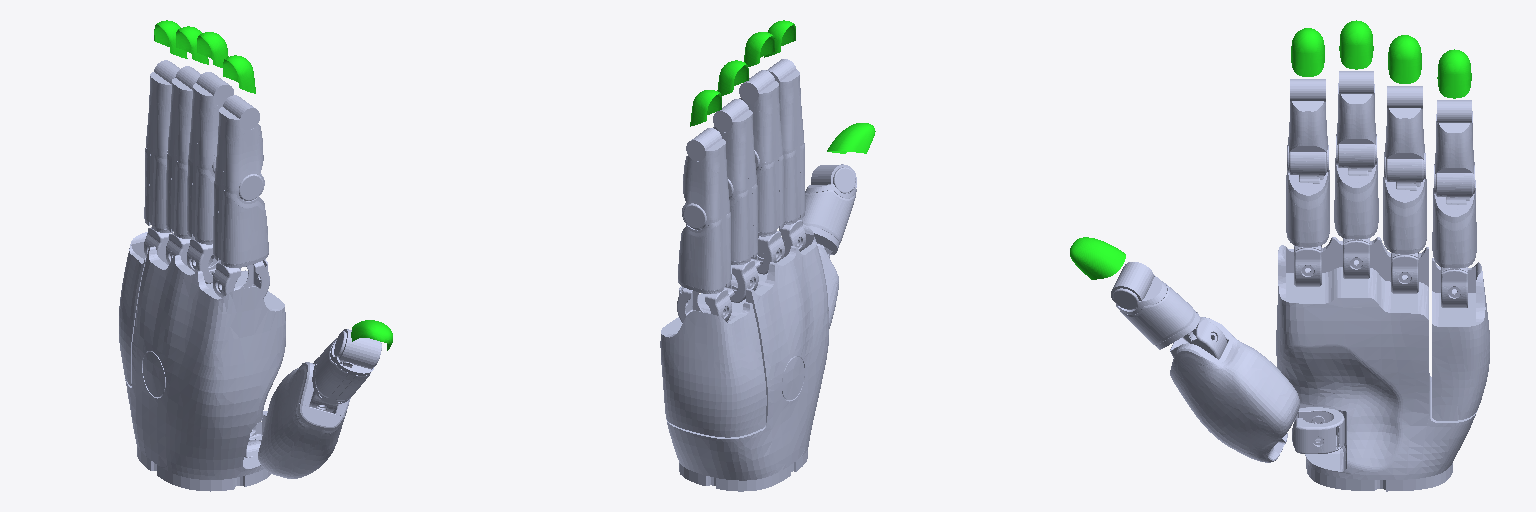
--- What the picture shows (computed from the rendered views, not written in the file) ---
3 views of the same robot in one strip: view 1: azimuth 30°, elevation 25°; view 2: azimuth 150°, elevation 25°; view 3: azimuth 270°, elevation 25° (orthographic).
Robot: Left_Sharpa_HA4 — 33 links, 32 joints (22 revolute, 10 fixed); root link left_hand_C_MC; default pose: every joint at zero.
Links seen in each view (by area): view 1: left_hand_C_MC, left_thumb_MC, left_index_PP, left_index_MP, left_thumb_PP, left_middle_MP, left_pinky_MC, left_middle_PP, left_pinky_MP, left_ring_MP, left_pinky_PP, left_ring_PP (+8 smaller); view 2: left_hand_C_MC, left_pinky_MC, left_pinky_PP, left_thumb_PP, left_pinky_MP, left_ring_MP, left_middle_MP, left_ring_PP, left_middle_PP, left_index_MP, left_index_PP, left_pinky_MCP_VL (+9 smaller); view 3: left_hand_C_MC, left_thumb_MC, left_pinky_MC, left_thumb_PP, left_ring_PP, left_index_PP, left_pinky_PP, left_middle_PP, left_pinky_MP, left_middle_MP, left_ring_MP, left_index_MP (+11 smaller).
Link boxes in pixels (x1,y1,x2,y2): left_hand_C_MC: (125, 246, 285, 491); left_thumb_MC: (258, 362, 350, 478); left_index_PP: (213, 173, 268, 267); left_index_MP: (215, 95, 263, 190); left_thumb_PP: (312, 329, 381, 403); left_middle_MP: (188, 72, 233, 167); left_pinky_MC: (119, 232, 147, 385); left_middle_PP: (187, 156, 215, 244); left_pinky_MP: (146, 60, 179, 155); left_ring_MP: (168, 66, 201, 161); left_pinky_PP: (144, 146, 173, 232); left_ring_PP: (166, 150, 194, 238); left_hand_C_MC: (666, 224, 828, 491); left_pinky_MC: (660, 302, 766, 437); left_pinky_PP: (678, 203, 731, 293); left_thumb_PP: (798, 164, 856, 254); left_pinky_MP: (683, 128, 729, 219); left_ring_MP: (713, 99, 756, 190); left_middle_MP: (739, 70, 782, 162); left_ring_PP: (728, 179, 757, 264); left_middle_PP: (754, 150, 783, 236); left_index_MP: (766, 59, 803, 150); left_index_PP: (783, 141, 805, 224); left_pinky_MCP_VL: (677, 286, 731, 322); left_hand_C_MC: (1276, 237, 1477, 491); left_thumb_MC: (1170, 317, 1299, 462); left_pinky_MC: (1432, 258, 1489, 420); left_thumb_PP: (1111, 262, 1199, 349); left_ring_PP: (1383, 152, 1426, 253); left_index_PP: (1286, 145, 1329, 246); left_pinky_PP: (1432, 173, 1476, 267); left_middle_PP: (1334, 144, 1378, 238); left_pinky_MP: (1434, 100, 1474, 173); left_middle_MP: (1336, 71, 1376, 144); left_ring_MP: (1385, 86, 1424, 159); left_index_MP: (1288, 79, 1327, 152).
Size in the robot's own frame: 0.0587 by 0.1764 by 0.2038 metres.
23 mesh visuals loaded from 13 distinct referenced files (11 binary STL); not drawn: 5 (reference not matched to a file when rendering).

robot.urdf — Left_Sharpa_HA4:
<?xml version="1.0" encoding="utf-8"?>
<robot name="Left_Sharpa_HA4">
  <mujoco>
    <compiler meshdir="meshes" balanceinertia="true" discardvisual="false" />
  </mujoco>
  <link name="left_hand_C_MC">
    <inertial>
      <origin
        xyz="-0.00162819 -0.00610534 0.0404193"
        rpy="0 0 0"
      />
      <mass value="0.72045" />
      <inertia
        ixx="0.000674245"
        ixy="-9.22298E-06"
        ixz="5.25317E-06"
        iyy="0.000526298"
        iyz="9.94281E-05"
        izz="0.000354144"
      />
    </inertial>
    <visual>
      <origin
        xyz="0 0 0"
        rpy="0 0 0"
      />
      <geometry>
        <mesh filename="package://left_sharpa_ha4/meshes/left_hand_C_MC_visual.STL" />
      </geometry>
      <material name="">
        <color rgba="0.79216 0.81961 0.93333 1" />
      </material>
    </visual>
    <collision>
      <origin
        xyz="0 0 0"
        rpy="0 0 0"
      />
      <geometry>
        <mesh filename="package://left_sharpa_ha4/meshes/left_hand_C_MC.STL" />
      </geometry>
    </collision>
  </link>
  <link name="left_thumb_CMC_VL">
    <inertial>
      <origin
        xyz="0 0 0"
        rpy="0 0 0"
      />
      <mass value="1.0E-06" />
      <inertia
        ixx="2.0E-12"
        ixy="0"
        ixz="0"
        iyy="2.0E-12"
        iyz="0"
        izz="2.0E-12"
      />
    </inertial>
    <visual>
      <origin
        xyz="0 0 0"
        rpy="0 0 0"
      />
      <geometry>
        <mesh filename="package://left_sharpa_ha4/meshes/left_thumb_CMC_VL.STL" />
      </geometry>
      <material name="">
        <color rgba="0.79216 0.81961 0.93333 1" />
      </material>
    </visual>

  </link>
  <joint name="left_thumb_CMC_FE" type="revolute">
    <origin
      xyz="0.01 -0.026 0.0212"
      rpy="0 0 -1.5708"
    />
    <parent link="left_hand_C_MC" />
    <child link="left_thumb_CMC_VL" />
    <axis xyz="0 0 1" />
    <limit lower="-0.1745" upper="1.9199" effort="3.3" velocity="11.84076833" />
  </joint>
  <link name="left_thumb_MC">
    <inertial>
      <origin
        xyz="0.0385056 -0.0105846 -0.00991873"
        rpy="0 0 0"
      />
      <mass value="0.116" />
      <inertia
        ixx="1.65891E-05"
        ixy="-1.79455E-06"
        ixz="-4.03315E-07"
        iyy="3.45657E-05"
        iyz="2.16989E-06"
        izz="3.70102E-05"
      />
    </inertial>
    <visual>
      <origin
        xyz="0 0 0"
        rpy="0 0 0"
      />
      <geometry>
        <mesh filename="package://left_sharpa_ha4/meshes/left_thumb_MC_visual.STL" />
      </geometry>
      <material name="">
        <color rgba="0.79216 0.81961 0.93333 1" />
      </material>
    </visual>
    <collision>
      <origin
        xyz="0 0 0"
        rpy="0 0 0"
      />
      <geometry>
        <mesh filename="package://left_sharpa_ha4/meshes/left_thumb_MC.STL" />
      </geometry>
    </collision>
  </link>
  <joint name="left_thumb_CMC_AA" type="revolute">
    <origin
      xyz="0 -0.005 0"
      rpy="1.5708 -0.7854 0"
    />
    <parent link="left_thumb_CMC_VL" />
    <child link="left_thumb_MC" />
    <axis xyz="0 0 1" />
    <limit lower="-0.3491" upper="0.3491" effort="3.3" velocity="11.84076833" />
  </joint>
  <link name="left_thumb_MCP_VL">
    <inertial>
      <origin
        xyz="4.8E-09 0.000869809 -3.6E-09"
        rpy="0 0 0"
      />
      <mass value="1.0E-06" />
      <inertia
        ixx="2.0E-12"
        ixy="0"
        ixz="0"
        iyy="2.0E-12"
        iyz="0"
        izz="2.0E-12"
      />
    </inertial>
    <visual>
      <origin
        xyz="0 0 0"
        rpy="0 0 0"
      />
      <geometry>
        <mesh filename="package://left_sharpa_ha4/meshes/left_thumb_MCP_VL_visual.STL" />
      </geometry>
      <material name="">
        <color rgba="0.79216 0.81961 0.93333 1" />
      </material>
    </visual>
  </link>
  <joint name="left_thumb_MCP_FE" type="revolute">
    <origin
      xyz="0.065 -0.006 -0.010392"
      rpy="-0.5236 0 0"
    />
    <parent link="left_thumb_MC" />
    <child link="left_thumb_MCP_VL" />
    <axis xyz="0 0 1" />
    <limit lower="-0.5236" upper="1.3963" effort="1.864" velocity="16.07692878" />
  </joint>
  <link name="left_thumb_PP">
    <inertial>
      <origin
        xyz="0.0219483 -0.00015581 0.00149446"
        rpy="0 0 0"
      />
      <mass value="0.04955" />
      <inertia
        ixx="2.59665E-06"
        ixy="3.6507E-09"
        ixz="-1.84385E-07"
        iyy="4.6E-06"
        iyz="-3.29002E-10"
        izz="4.33744E-06"
      />
    </inertial>
    <visual>
      <origin
        xyz="0 0 0"
        rpy="0 0 0"
      />
      <geometry>
        <mesh filename="package://left_sharpa_ha4/meshes/left_thumb_PP_visual.STL" />
      </geometry>
      <material name="">
        <color rgba="0.79216 0.81961 0.93333 1" />
      </material>
    </visual>
    <collision>
      <origin
        xyz="0 0 0"
        rpy="0 0 0"
      />
      <geometry>
        <mesh filename="package://left_sharpa_ha4/meshes/left_thumb_PP.STL" />
      </geometry>
    </collision>
  </link>
  <joint name="left_thumb_MCP_AA" type="revolute">
    <origin
      xyz="0 0 0"
      rpy="1.5708 0 0"
    />
    <parent link="left_thumb_MCP_VL" />
    <child link="left_thumb_PP" />
    <axis xyz="0 0 1" />
    <limit lower="-0.3491" upper="0.3491" effort="1.864" velocity="16.07692878" />
  </joint>
  <link name="left_thumb_DP">
    <inertial>
      <origin
        xyz="0.0151804 -0.00463639 8.34861E-07"
        rpy="0 0 0"
      />
      <mass value="0.003886" />
      <inertia
        ixx="1.32801E-07"
        ixy="4.59297E-08"
        ixz="-3.77372E-13"
        iyy="1.5797E-07"
        iyz="3.48732E-13"
        izz="1.50341E-07"
      />
    </inertial>
    <visual>
      <origin
        xyz="0 0 0"
        rpy="0 0 0"
      />
      <geometry>
        <mesh filename="package://left_sharpa_ha4/meshes/left_thumb_DP_visual.STL" />
      </geometry>
      <material name="">
        <color rgba="0.79216 0.81961 0.93333 1" />
      </material>
    </visual>
    <collision>
      <origin
        xyz="0 0 0"
        rpy="0 0 0"
      />
      <geometry>
        <mesh filename="package://left_sharpa_ha4/meshes/left_thumb_DP.STL" />
      </geometry>
    </collision>
  </link>
  <joint name="left_thumb_IP" type="revolute">
    <origin
      xyz="0.039 0 0"
      rpy="-1.5708 0 0"
    />
    <parent link="left_thumb_PP" />
    <child link="left_thumb_DP" />
    <axis xyz="0 0 1" />
    <limit lower="0" upper="1.7453" effort="0.638" velocity="11.61831603" />
  </joint>
  <link name="left_thumb_elastomer">
    <inertial>
      <origin
        xyz="1.37353E-07 -0.0202873 0.00127072"
        rpy="0 0 0"
      />
      <mass value="0.002100" />
      <inertia
        ixx="6.4357E-08"
        ixy="-6.5027E-12"
        ixz="5.04872E-12"
        iyy="5.72112E-08"
        iyz="1.72427E-08"
        izz="7.47205E-08"
      />
    </inertial>
    <visual>
      <origin
        xyz="0 0 0"
        rpy="0 0 0"
      />
      <geometry>
        <mesh filename="package://left_sharpa_ha4/meshes/thumb_elastomer_surface.STL" />
      </geometry>
      <material name="">
        <color rgba="0.2 1 0.2 1" />
      </material>
    </visual>
    <collision>
      <origin
        xyz="0 0 0"
        rpy="0 0 0"
      />
      <geometry>
        <mesh filename="package://left_sharpa_ha4/meshes/thumb_elastomer.STL" />
      </geometry>
    </collision>
  </link>
  <joint name="left_thumb_elastomer_fix_joint" type="fixed">
    <origin
      xyz="0 0 0"
      rpy="1.5707963267949 -1.5707963267949 0"
    />
    <parent link="left_thumb_DP" />
    <child link="left_thumb_elastomer" />
    <axis xyz="0 0 0" />
  </joint>
  <link name="left_thumb_fingertip">
    <inertial>
      <origin
        xyz="0.0 0.0 0.0"
        rpy="0 0 0"
      />
      <mass value="1.0E-06" />
      <inertia
        ixx="2.0E-12"
        ixy="0"
        ixz="0"
        iyy="2.0E-12"
        iyz="0"
        izz="2.0E-12"
      />
    </inertial>
  </link>
  <joint name="left_thumb_fingertip_fix_joint" type="fixed">
    <origin
      xyz="0 -0.0276109346321216 0"
      rpy="1.5707963267949 1.5707963267949 0"
    />
    <parent link="left_thumb_elastomer" />
    <child link="left_thumb_fingertip" />
    <axis xyz="0 0 0" />
  </joint>
  <link name="left_index_MCP_VL">
    <inertial>
      <origin
        xyz="4.8E-09 0.00086981 -3.6E-09"
        rpy="0 0 0"
      />
      <mass value="1.0E-06" />
      <inertia
        ixx="2.0E-12"
        ixy="0"
        ixz="0"
        iyy="2.0E-12"
        iyz="0"
        izz="2.0E-12"
      />
    </inertial>
    <visual>
      <origin
        xyz="0 0 0"
        rpy="0 0 0"
      />
      <geometry>
        <mesh filename="package://left_sharpa_ha4/meshes/left_MCP_VL_visual.STL" />
      </geometry>
      <material name="">
        <color rgba="0.79216 0.81961 0.93333 1" />
      </material>
    </visual>
    <collision>
      <origin
        xyz="0 0 0"
        rpy="0 0 0"
      />
      <geometry>
        <mesh filename="package://left_sharpa_ha4/meshes/MCP_VL.STL" />
      </geometry>
    </collision>

  </link>
  <joint name="left_index_MCP_FE" type="revolute">
    <origin
      xyz="0.001 -0.0303 0.0957"
      rpy="0 -1.5708 -1.5708"
    />
    <parent link="left_hand_C_MC" />
    <child link="left_index_MCP_VL" />
    <axis xyz="0 0 1" />
    <limit lower="-0.17453293" upper="1.5708" effort="1.864" velocity="16.07692878" />
  </joint>
  <link name="left_index_PP">
    <inertial>
      <origin
        xyz="0.0243772 -1.00263E-06 0.000755901"
        rpy="0 0 0"
      />
      <mass value="0.04138" />
      <inertia
        ixx="2.19643E-06"
        ixy="-5.66246E-11"
        ixz="-3.54371E-07"
        iyy="6.82371E-06"
        iyz="4.72597E-11"
        izz="6.51207E-06"
      />
    </inertial>
    <visual>
      <origin
        xyz="0 0 0"
        rpy="0 0 0"
      />
      <geometry>
        <mesh filename="package://left_sharpa_ha4/meshes/left_PP_visual.STL" />
      </geometry>
      <material name="">
        <color rgba="0.79216 0.81961 0.93333 1" />
      </material>
    </visual>
    <collision>
      <origin
        xyz="0 0 0"
        rpy="0 0 0"
      />
      <geometry>
        <mesh filename="package://left_sharpa_ha4/meshes/left_PP.STL" />
      </geometry>
    </collision>
  </link>
  <joint name="left_index_MCP_AA" type="revolute">
    <origin
      xyz="0 0 0"
      rpy="1.5708 0 0"
    />
    <parent link="left_index_MCP_VL" />
    <child link="left_index_PP" />
    <axis xyz="0 0 1" />
    <limit lower="-0.3491" upper="0.3491" effort="1.864" velocity="16.07692878" />
  </joint>
  <link name="left_index_MP">
    <inertial>
      <origin
        xyz="0.015316 -0.00138561 6.27987E-08"
        rpy="0 0 0"
      />
      <mass value="0.02509" />
      <inertia
        ixx="1.00375E-06"
        ixy="-7.00446E-08"
        ixz="7.42125E-12"
        iyy="2.2637E-06"
        iyz="-2.26606E-12"
        izz="2.28516E-06"
      />
    </inertial>
    <visual>
      <origin
        xyz="0 0 0"
        rpy="0 0 0"
      />
      <geometry>
        <mesh filename="package://left_sharpa_ha4/meshes/left_MP_visual.STL" />
      </geometry>
      <material name="">
        <color rgba="0.79216 0.81961 0.93333 1" />
      </material>
    </visual>
    <collision>
      <origin
        xyz="0 0 0"
        rpy="0 0 0"
      />
      <geometry>
        <mesh filename="package://left_sharpa_ha4/meshes/left_MP.STL" />
      </geometry>
    </collision>
  </link>
  <joint name="left_index_PIP" type="revolute">
    <origin
      xyz="0.047 0 0"
      rpy="-1.5708 0 0"
    />
    <parent link="left_index_PP" />
    <child link="left_index_MP" />
    <axis xyz="0 0 1" />
    <limit lower="0" upper="1.7453" effort="0.638" velocity="11.61831603" />
  </joint>
  <link name="left_index_DP">
    <inertial>
      <origin
        xyz="0.0127205 -0.00380991 -9.52663E-07"
        rpy="0 0 0"
      />
      <mass value="0.003002" />
      <inertia
        ixx="7.65598E-08"
        ixy="2.47622E-08"
        ixz="1.23922E-11"
        iyy="9.99792E-08"
        iyz="-4.16105E-12"
        izz="9.38245E-08"
      />
    </inertial>
    <visual>
      <origin
        xyz="0 0 0"
        rpy="0 0 0"
      />
      <geometry>
        <mesh filename="package://left_sharpa_ha4/meshes/left_DP_visual.STL" />
      </geometry>
      <material name="">
        <color rgba="0.79216 0.81961 0.93333 1" />
      </material>
    </visual>
    <collision>
      <origin
        xyz="0 0 0"
        rpy="0 0 0"
      />
      <geometry>
        <mesh filename="package://left_sharpa_ha4/meshes/left_DP.STL" />
      </geometry>
    </collision>
  </link>
  <joint name="left_index_DIP" type="revolute">
    <origin
      xyz="0.0315 0 0"
      rpy="0 0 0"
    />
    <parent link="left_index_MP" />
    <child link="left_index_DP" />
    <axis xyz="0 0 1" />
    <limit lower="0" upper="1.3963" effort="0.189369" velocity="14.66594768" />
  </joint>
  <link name="left_index_elastomer">
    <inertial>
      <origin
        xyz="-4.34641E-07 -0.0183002 0.000412898"
        rpy="0 0 0"
      />
      <mass value="0.00110" />
      <inertia
        ixx="2.54635E-08"
        ixy="1.30327E-12"
        ixz="-2.13894E-13"
        iyy="2.14666E-08"
        iyz="5.39858E-09"
        izz="2.96037E-08"
      />
    </inertial>
    <visual>
      <origin
        xyz="0 0 0"
        rpy="0 0 0"
      />
      <geometry>
        <mesh filename="package://left_sharpa_ha4/meshes/elastomer_surface.STL" />
      </geometry>
      <material name="">
        <color rgba="0.2 1 0.2 1" />
      </material>
    </visual>
    <collision>
      <origin
        xyz="0 0 0"
        rpy="0 0 0"
      />
      <geometry>
        <mesh filename="package://left_sharpa_ha4/meshes/elastomer.STL" />
      </geometry>
    </collision>
  </link>
  <joint name="left_index_elastomer_fix_joint" type="fixed">
    <origin
      xyz="0 0 0"
      rpy="1.5707963267949 -1.5707963267949 0"
    />
    <parent link="left_index_DP" />
    <child link="left_index_elastomer" />
    <axis xyz="0 0 0" />
  </joint>
  <link name="left_index_fingertip">
    <inertial>
      <origin
        xyz="0.0 0.0 0.0"
        rpy="0 0 0"
      />
      <mass value="1.0E-06" />
      <inertia
        ixx="2.0E-12"
        ixy="0"
        ixz="0"
        iyy="2.0E-12"
        iyz="0"
        izz="2.0E-12"
      />
    </inertial>
  </link>
  <joint name="left_index_fingertip_fix_joint" type="fixed">
    <origin
      xyz="0 -0.0260092574262508 0"
      rpy="1.5707963267949 1.5707963267949 0"
    />
    <parent link="left_index_elastomer" />
    <child link="left_index_fingertip" />
    <axis xyz="0 0 0" />
  </joint>
  <link name="left_middle_MCP_VL">
    <inertial>
      <origin
        xyz="4.8E-09 0.00086981 -3.6E-09"
        rpy="0 0 0"
      />
      <mass value="1.0E-06" />
      <inertia
        ixx="2.0E-12"
        ixy="0"
        ixz="0"
        iyy="2.0E-12"
        iyz="0"
        izz="2.0E-12"
      />
    </inertial>
    <visual>
      <origin
        xyz="0 0 0"
        rpy="0 0 0"
      />
      <geometry>
        <mesh filename="package://left_sharpa_ha4/meshes/left_MCP_VL_visual.STL" />
      </geometry>
      <material name="">
        <color rgba="0.79216 0.81961 0.93333 1" />
      </material>
    </visual>
    <collision>
      <origin
        xyz="0 0 0"
        rpy="0 0 0"
      />
      <geometry>
        <mesh filename="package://left_sharpa_ha4/meshes/MCP_VL.STL" />
      </geometry>
    </collision>
  </link>
  <joint name="left_middle_MCP_FE" type="revolute">
    <origin
      xyz="0 -0.01 0.0987"
      rpy="0 -1.5708 -1.5708"
    />
    <parent link="left_hand_C_MC" />
    <child link="left_middle_MCP_VL" />
    <axis xyz="0 0 1" />
    <limit lower="-0.17453293" upper="1.5708" effort="1.864" velocity="16.07692878" />
  </joint>
  <link name="left_middle_PP">
    <inertial>
      <origin
        xyz="0.0243772 -1.00263E-06 0.000755901"
        rpy="0 0 0"
      />
      <mass value="0.04138" />
      <inertia
        ixx="2.19643E-06"
        ixy="-5.66246E-11"
        ixz="-3.54371E-07"
        iyy="6.82371E-06"
        iyz="4.72597E-11"
        izz="6.51207E-06"
      />
    </inertial>
    <visual>
      <origin
        xyz="0 0 0"
        rpy="0 0 0"
      />
      <geometry>
        <mesh filename="package://left_sharpa_ha4/meshes/left_PP_visual.STL" />
      </geometry>
      <material name="">
        <color rgba="0.79216 0.81961 0.93333 1" />
      </material>
    </visual>
    <collision>
      <origin
        xyz="0 0 0"
        rpy="0 0 0"
      />
      <geometry>
        <mesh filename="package://left_sharpa_ha4/meshes/left_PP.STL" />
      </geometry>
    </collision>
  </link>
  <joint name="left_middle_MCP_AA" type="revolute">
    <origin
      xyz="0 0 0"
      rpy="1.5708 0 0"
    />
    <parent link="left_middle_MCP_VL" />
    <child link="left_middle_PP" />
    <axis xyz="0 0 1" />
    <limit lower="-0.3491" upper="0.3491" effort="1.864" velocity="16.07692878" />
  </joint>
  <link name="left_middle_MP">
    <inertial>
      <origin
        xyz="0.015316 -0.00138561 6.27987E-08"
        rpy="0 0 0"
      />
      <mass value="0.02509" />
      <inertia
        ixx="1.00375E-06"
        ixy="-7.00446E-08"
        ixz="7.42125E-12"
        iyy="2.2637E-06"
        iyz="-2.26606E-12"
        izz="2.28516E-06"
      />
    </inertial>
    <visual>
      <origin
        xyz="0 0 0"
        rpy="0 0 0"
      />
      <geometry>
        <mesh filename="package://left_sharpa_ha4/meshes/left_MP_visual.STL" />
      </geometry>
      <material name="">
        <color rgba="0.79216 0.81961 0.93333 1" />
      </material>
    </visual>
    <collision>
      <origin
        xyz="0 0 0"
        rpy="0 0 0"
      />
      <geometry>
        <mesh filename="package://left_sharpa_ha4/meshes/left_MP.STL" />
      </geometry>
    </collision>
  </link>
  <joint name="left_middle_PIP" type="revolute">
    <origin
      xyz="0.047 0 0"
      rpy="-1.5708 0 0"
    />
    <parent link="left_middle_PP" />
    <child link="left_middle_MP" />
    <axis xyz="0 0 1" />
    <limit lower="0" upper="1.7453" effort="0.638" velocity="11.61831603" />
  </joint>
  <link name="left_middle_DP">
    <inertial>
      <origin
        xyz="0.0127205 -0.00380991 -9.52663E-07"
        rpy="0 0 0"
      />
      <mass value="0.003002" />
      <inertia
        ixx="7.65598E-08"
        ixy="2.47622E-08"
        ixz="1.23922E-11"
        iyy="9.99792E-08"
        iyz="-4.16105E-12"
        izz="9.38245E-08"
      />
    </inertial>
    <visual>
      <origin
        xyz="0 0 0"
        rpy="0 0 0"
      />
      <geometry>
        <mesh filename="package://left_sharpa_ha4/meshes/left_DP_visual.STL" />
      </geometry>
      <material name="">
        <color rgba="0.79216 0.81961 0.93333 1" />
      </material>
    </visual>
    <collision>
      <origin
        xyz="0 0 0"
        rpy="0 0 0"
      />
      <geometry>
        <mesh filename="package://left_sharpa_ha4/meshes/left_DP.STL" />
      </geometry>
    </collision>
  </link>
  <joint name="left_middle_DIP" type="revolute">
    <origin
      xyz="0.0315 0 0"
      rpy="0 0 0"
    />
    <parent link="left_middle_MP" />
    <child link="left_middle_DP" />
    <axis xyz="0 0 1" />
    <limit lower="0" upper="1.3963" effort="0.189369" velocity="14.66594768" />
  </joint>
  <link name="left_middle_elastomer">
    <inertial>
      <origin
        xyz="-4.34641E-07 -0.0183002 0.000412898"
        rpy="0 0 0"
      />
      <mass value="0.00110" />
      <inertia
        ixx="2.54635E-08"
        ixy="1.30327E-12"
        ixz="-2.13894E-13"
        iyy="2.14666E-08"
        iyz="5.39858E-09"
        izz="2.96037E-08"
      />
    </inertial>
    <visual>
      <origin
        xyz="0 0 0"
        rpy="0 0 0"
      />
      <geometry>
        <mesh filename="package://left_sharpa_ha4/meshes/elastomer_surface.STL" />
      </geometry>
      <material name="">
        <color rgba="0.2 1 0.2 1" />
      </material>
    </visual>
    <collision>
      <origin
        xyz="0 0 0"
        rpy="0 0 0"
      />
      <geometry>
        <mesh filename="package://left_sharpa_ha4/meshes/elastomer.STL" />
      </geometry>
    </collision>
  </link>
  <joint name="left_middle_elastomer_fix_joint" type="fixed">
    <origin
      xyz="0 0 0"
      rpy="1.5707963267949 -1.5707963267949 0"
    />
    <parent link="left_middle_DP" />
    <child link="left_middle_elastomer" />
    <axis xyz="0 0 0" />
  </joint>
  <link name="left_middle_fingertip">
    <inertial>
      <origin
        xyz="0.0 0.0 0.0"
        rpy="0 0 0"
      />
      <mass value="1.0E-06" />
      <inertia
        ixx="2.0E-12"
        ixy="0"
        ixz="0"
        iyy="2.0E-12"
        iyz="0"
        izz="2.0E-12"
      />
    </inertial>
  </link>
  <joint name="left_middle_fingertip_fix_joint" type="fixed">
    <origin
      xyz="0 -0.0260092574262507 0"
      rpy="1.5707963267949 1.5707963267949 0"
    />
    <parent link="left_middle_elastomer" />
    <child link="left_middle_fingertip" />
    <axis xyz="0 0 0" />
  </joint>
  <link name="left_ring_MCP_VL">
    <inertial>
      <origin
        xyz="4.8E-09 0.00086981 3.6E-09"
        rpy="0 0 0"
      />
      <mass value="1.0E-06" />
      <inertia
        ixx="2.0E-12"
        ixy="0"
        ixz="0"
        iyy="2.0E-12"
        iyz="0"
        izz="2.0E-12"
      />
    </inertial>
    <visual>
      <origin
        xyz="0 0 0"
        rpy="0 0 0"
      />
      <geometry>
        <mesh filename="package://left_sharpa_ha4/meshes/left_MCP_VL_visual.STL" />
      </geometry>
      <material name="">
        <color rgba="0.79216 0.81961 0.93333 1" />
      </material>
    </visual>
    <collision>
      <origin
        xyz="0 0 0"
        rpy="0 0 0"
      />
      <geometry>
        <mesh filename="package://left_sharpa_ha4/meshes/MCP_VL.STL" />
      </geometry>
    </collision>
  </link>
  <joint name="left_ring_MCP_FE" type="revolute">
    <origin
      xyz="0.0015 0.0103 0.0927"
      rpy="0 -1.5708 -1.5708"
    />
    <parent link="left_hand_C_MC" />
    <child link="left_ring_MCP_VL" />
    <axis xyz="0 0 1" />
    <limit lower="-0.17453293" upper="1.5708" effort="1.864" velocity="16.07692878" />
  </joint>
  <link name="left_ring_PP">
    <inertial>
      <origin
        xyz="0.0243772 -1.00263E-06 0.000755901"
        rpy="0 0 0"
      />
      <mass value="0.04138" />
      <inertia
        ixx="2.19643E-06"
        ixy="-5.66246E-11"
        ixz="-3.54371E-07"
        iyy="6.82371E-06"
        iyz="4.72597E-11"
        izz="6.51207E-06"
      />
    </inertial>
    <visual>
      <origin
        xyz="0 0 0"
        rpy="0 0 0"
      />
      <geometry>
        <mesh filename="package://left_sharpa_ha4/meshes/left_PP_visual.STL" />
      </geometry>
      <material name="">
        <color rgba="0.79216 0.81961 0.93333 1" />
      </material>
    </visual>
    <collision>
      <origin
        xyz="0 0 0"
        rpy="0 0 0"
      />
      <geometry>
        <mesh filename="package://left_sharpa_ha4/meshes/left_PP.STL" />
      </geometry>
    </collision>
  </link>
  <joint name="left_ring_MCP_AA" type="revolute">
    <origin
      xyz="0 0 0"
      rpy="1.5708 0 0"
    />
    <parent link="left_ring_MCP_VL" />
    <child link="left_ring_PP" />
    <axis xyz="0 0 1" />
    <limit lower="-0.3491" upper="0.3491" effort="1.864" velocity="16.07692878" />
  </joint>
  <link name="left_ring_MP">
    <inertial>
      <origin
        xyz="0.015316 -0.00138561 6.27987E-08"
        rpy="0 0 0"
      />
      <mass value="0.02509" />
      <inertia
        ixx="1.00375E-06"
        ixy="-7.00446E-08"
        ixz="7.42125E-12"
        iyy="2.2637E-06"
        iyz="-2.26606E-12"
        izz="2.28516E-06"
      />
    </inertial>
    <visual>
      <origin
        xyz="0 0 0"
        rpy="0 0 0"
      />
      <geometry>
        <mesh filename="package://left_sharpa_ha4/meshes/left_MP_visual.STL" />
      </geometry>
      <material name="">
        <color rgba="0.79216 0.81961 0.93333 1" />
      </material>
    </visual>
    <collision>
      <origin
        xyz="0 0 0"
        rpy="0 0 0"
      />
      <geometry>
        <mesh filename="package://left_sharpa_ha4/meshes/left_MP.STL" />
      </geometry>
    </collision>
  </link>
  <joint name="left_ring_PIP" type="revolute">
    <origin
      xyz="0.047 0 0"
      rpy="-1.5708 0 0"
    />
    <parent link="left_ring_PP" />
    <child link="left_ring_MP" />
    <axis xyz="0 0 1" />
    <limit lower="0" upper="1.7453" effort="0.638" velocity="11.61831603" />
  </joint>
  <link name="left_ring_DP">
    <inertial>
      <origin
        xyz="0.0127205 -0.00380991 -9.52663E-07"
        rpy="0 0 0"
      />
      <mass value="0.003002" />
      <inertia
        ixx="7.65598E-08"
        ixy="2.47622E-08"
        ixz="1.23922E-11"
        iyy="9.99792E-08"
        iyz="-4.16105E-12"
        izz="9.38245E-08"
      />
    </inertial>
    <visual>
      <origin
        xyz="0 0 0"
        rpy="0 0 0"
      />
      <geometry>
        <mesh filename="package://left_sharpa_ha4/meshes/left_DP_visual.STL" />
      </geometry>
      <material name="">
        <color rgba="0.79216 0.81961 0.93333 1" />
      </material>
    </visual>
    <collision>
      <origin
        xyz="0 0 0"
        rpy="0 0 0"
      />
      <geometry>
        <mesh filename="package://left_sharpa_ha4/meshes/left_DP.STL" />
      </geometry>
    </collision>
  </link>
  <joint name="left_ring_DIP" type="revolute">
    <origin
      xyz="0.0315 0 0"
      rpy="0 0 0"
    />
    <parent link="left_ring_MP" />
    <child link="left_ring_DP" />
    <axis xyz="0 0 1" />
    <limit lower="0" upper="1.3963" effort="0.189369" velocity="14.66594768" />
  </joint>
  <link name="left_ring_elastomer">
    <inertial>
      <origin
        xyz="-4.34641E-07 -0.0183002 0.000412898"
        rpy="0 0 0"
      />
      <mass value="0.00110" />
      <inertia
        ixx="2.54635E-08"
        ixy="1.30327E-12"
        ixz="-2.13894E-13"
        iyy="2.14666E-08"
        iyz="5.39858E-09"
        izz="2.96037E-08"
      />
    </inertial>
    <visual>
      <origin
        xyz="0 0 0"
        rpy="0 0 0"
      />
      <geometry>
        <mesh filename="package://left_sharpa_ha4/meshes/elastomer_surface.STL" />
      </geometry>
      <material name="">
        <color rgba="0.2 1 0.2 1" />
      </material>
    </visual>
    <collision>
      <origin
        xyz="0 0 0"
        rpy="0 0 0"
      />
      <geometry>
        <mesh filename="package://left_sharpa_ha4/meshes/elastomer.STL" />
      </geometry>
    </collision>
  </link>
  <joint name="left_ring_elastomer_fix_joint" type="fixed">
    <origin
      xyz="0 0 0"
      rpy="1.5708 -1.5708 0"
    />
    <parent link="left_ring_DP" />
    <child link="left_ring_elastomer" />
    <axis xyz="0 0 0" />
  </joint>
  <link name="left_ring_fingertip">
    <inertial>
      <origin
        xyz="0.0 0.0 0.0"
        rpy="0 0 0"
      />
      <mass value="1.0E-06" />
      <inertia
        ixx="2.0E-12"
        ixy="0"
        ixz="0"
        iyy="2.0E-12"
        iyz="0"
        izz="2.0E-12"
      />
    </inertial>
  </link>
  <joint name="left_ring_fingertip_fix_joint" type="fixed">
    <origin
      xyz="0 -0.0260092574262507 0"
      rpy="1.5707963267949 1.5707963267949 0"
    />
    <parent link="left_ring_elastomer" />
    <child link="left_ring_fingertip" />
    <axis xyz="0 0 0" />
  </joint>
  <link name="left_pinky_MC">
    <inertial>
      <origin
        xyz="0.0107985 0.00598801 0.0335125"
        rpy="0 0 0"
      />
      <mass value="0.12541" />
      <inertia
        ixx="2.44379E-05"
        ixy="3.62784E-07"
        ixz="-8.00221E-07"
        iyy="3.57429E-05"
        iyz="4.68085E-07"
        izz="2.16786E-05"
      />
    </inertial>
    <visual>
      <origin
        xyz="0 0 0"
        rpy="0 0 0"
      />
      <geometry>
        <mesh filename="package://left_sharpa_ha4/meshes/left_pinky_MC_visual.STL" />
      </geometry>
      <material name="">
        <color rgba="0.79216 0.81961 0.93333 1" />
      </material>
    </visual>
    <collision>
      <origin
        xyz="0 0 0"
        rpy="0 0 0"
      />
      <geometry>
        <mesh filename="package://left_sharpa_ha4/meshes/left_pinky_MC.STL" />
      </geometry>
    </collision>
  </link>
  <joint name="left_pinky_CMC" type="revolute">
    <origin
      xyz="0.01136 0.0263 0.0867"
      rpy="-3.1416 0 3.1416"
    />
    <parent link="left_hand_C_MC" />
    <child link="left_pinky_MC" />
    <axis xyz="0 0 1" />
    <limit lower="0" upper="0.2618" effort="0.5285" velocity="35.07416159" />
  </joint>
  <link name="left_pinky_MCP_VL">
    <inertial>
      <origin
        xyz="4.8E-09 0.00086981 -3.6E-09"
        rpy="0 0 0"
      />
      <mass value="1.0E-06" />
      <inertia
        ixx="2.0E-12"
        ixy="0"
        ixz="0"
        iyy="2.0E-12"
        iyz="0"
        izz="2.0E-12"
      />
    </inertial>
    <visual>
      <origin
        xyz="0 0 0"
        rpy="0 0 0"
      />
      <geometry>
        <mesh filename="package://left_sharpa_ha4/meshes/left_MCP_VL_visual.STL" />
      </geometry>
      <material name="">
        <color rgba="0.79216 0.81961 0.93333 1" />
      </material>
    </visual>
    <collision>
      <origin
        xyz="0 0 0"
        rpy="0 0 0"
      />
      <geometry>
        <mesh filename="package://left_sharpa_ha4/meshes/MCP_VL.STL" />
      </geometry>
    </collision>
  </link>
  <joint name="left_pinky_MCP_FE" type="revolute">
    <origin
      xyz="0.00836 0.0048 0"
      rpy="-1.5708 1.5708 0"
    />
    <parent link="left_pinky_MC" />
    <child link="left_pinky_MCP_VL" />
    <axis xyz="0 0 1" />
    <limit lower="-0.17453293" upper="1.5708" effort="1.864" velocity="16.07692878" />
  </joint>
  <link name="left_pinky_PP">
    <inertial>
      <origin
        xyz="0.0243772 -1.00263E-06 0.000755901"
        rpy="0 0 0"
      />
      <mass value="0.04138" />
      <inertia
        ixx="2.19643E-06"
        ixy="-5.66246E-11"
        ixz="-3.54371E-07"
        iyy="6.82371E-06"
        iyz="4.72597E-11"
        izz="6.51207E-06"
      />
    </inertial>
    <visual>
      <origin
        xyz="0 0 0"
        rpy="0 0 0"
      />
      <geometry>
        <mesh filename="package://left_sharpa_ha4/meshes/left_PP_visual.STL" />
      </geometry>
      <material name="">
        <color rgba="0.79216 0.81961 0.93333 1" />
      </material>
    </visual>
    <collision>
      <origin
        xyz="0 0 0"
        rpy="0 0 0"
      />
      <geometry>
        <mesh filename="package://left_sharpa_ha4/meshes/left_PP.STL" />
      </geometry>
    </collision>
  </link>
  <joint name="left_pinky_MCP_AA" type="revolute">
    <origin
      xyz="0 0 0"
      rpy="1.5708 0 0"
    />
    <parent link="left_pinky_MCP_VL" />
    <child link="left_pinky_PP" />
    <axis xyz="0 0 1" />
    <limit lower="-0.3491" upper="0.3491" effort="1.864" velocity="16.07692878" />
  </joint>
  <link name="left_pinky_MP">
    <inertial>
      <origin
        xyz="0.015316 -0.00138561 6.27987E-08"
        rpy="0 0 0"
      />
      <mass value="0.02509" />
      <inertia
        ixx="1.00375E-06"
        ixy="-7.00446E-08"
        ixz="7.42125E-12"
        iyy="2.2637E-06"
        iyz="-2.26606E-12"
        izz="2.28516E-06"
      />
    </inertial>
    <visual>
      <origin
        xyz="0 0 0"
        rpy="0 0 0"
      />
      <geometry>
        <mesh filename="package://left_sharpa_ha4/meshes/left_MP_visual.STL" />
      </geometry>
      <material name="">
        <color rgba="0.79216 0.81961 0.93333 1" />
      </material>
    </visual>
    <collision>
      <origin
        xyz="0 0 0"
        rpy="0 0 0"
      />
      <geometry>
        <mesh filename="package://left_sharpa_ha4/meshes/left_MP.STL" />
      </geometry>
    </collision>
  </link>
  <joint name="left_pinky_PIP" type="revolute">
    <origin
      xyz="0.047 0 0"
      rpy="-1.5708 0 0"
    />
    <parent link="left_pinky_PP" />
    <child link="left_pinky_MP" />
    <axis xyz="0 0 1" />
    <limit lower="0" upper="1.7453" effort="0.638" velocity="11.61831603" />
  </joint>
  <link name="left_pinky_DP">
    <inertial>
      <origin
        xyz="0.0127205 -0.00380991 -9.52663E-07"
        rpy="0 0 0"
      />
      <mass value="0.003002" />
      <inertia
        ixx="7.65598E-08"
        ixy="2.47622E-08"
        ixz="1.23922E-11"
        iyy="9.99792E-08"
        iyz="-4.16105E-12"
        izz="9.38245E-08"
      />
    </inertial>
    <visual>
      <origin
        xyz="0 0 0"
        rpy="0 0 0"
      />
      <geometry>
        <mesh filename="package://left_sharpa_ha4/meshes/left_DP_visual.STL" />
      </geometry>
      <material name="">
        <color rgba="0.79216 0.81961 0.93333 1" />
      </material>
    </visual>
    <collision>
      <origin
        xyz="0 0 0"
        rpy="0 0 0"
      />
      <geometry>
        <mesh filename="package://left_sharpa_ha4/meshes/left_DP.STL" />
      </geometry>
    </collision>
  </link>
  <joint name="left_pinky_DIP" type="revolute">
    <origin
      xyz="0.0315 0 0"
      rpy="0 0 0"
    />
    <parent link="left_pinky_MP" />
    <child link="left_pinky_DP" />
    <axis xyz="0 0 1" />
    <limit lower="0" upper="1.3963" effort="0.189369" velocity="14.66594768" />
  </joint>
  <link name="left_pinky_elastomer">
    <inertial>
      <origin
        xyz="-4.34641E-07 -0.0183002 0.000412898"
        rpy="0 0 0"
      />
      <mass value="0.00110" />
      <inertia
        ixx="2.54635E-08"
        ixy="1.30327E-12"
        ixz="-2.13894E-13"
        iyy="2.14666E-08"
        iyz="5.39858E-09"
        izz="2.96037E-08"
      />
    </inertial>
    <visual>
      <origin
        xyz="0 0 0"
        rpy="0 0 0"
      />
      <geometry>
        <mesh filename="package://left_sharpa_ha4/meshes/elastomer_surface.STL" />
      </geometry>
      <material name="">
        <color rgba="0.2 1 0.2 1" />
      </material>
    </visual>
    <collision>
      <origin
        xyz="0 0 0"
        rpy="0 0 0"
      />
      <geometry>
        <mesh filename="package://left_sharpa_ha4/meshes/elastomer.STL" />
      </geometry>
    </collision>
  </link>
  <joint name="left_pinky_elastomer_fix_joint" type="fixed">
    <origin
      xyz="0 0 0"
      rpy="1.5707963267949 -1.5707963267949 0"
    />
    <parent link="left_pinky_DP" />
    <child link="left_pinky_elastomer" />
    <axis xyz="0 0 0" />
  </joint>
  <link name="left_pinky_fingertip">
    <inertial>
      <origin
        xyz="0.0 0.0 0.0"
        rpy="0 0 0"
      />
      <mass value="1.0E-06" />
      <inertia
        ixx="2.0E-12"
        ixy="0"
        ixz="0"
        iyy="2.0E-12"
        iyz="0"
        izz="2.0E-12"
      />
    </inertial>
  </link>
  <joint name="left_pinky_fingertip_fix_joint" type="fixed">
    <origin
      xyz="0 -0.0260092574262507 0"
      rpy="1.5707963267949 1.5707963267949 0"
    />
    <parent link="left_pinky_elastomer" />
    <child link="left_pinky_fingertip" />
    <axis xyz="0 0 0" />
  </joint>
</robot>
